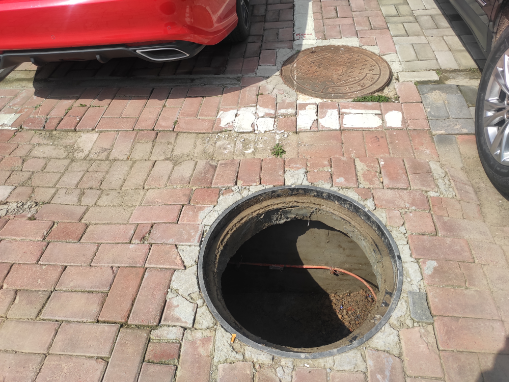well: (197, 184, 402, 355), (290, 40, 395, 98)
